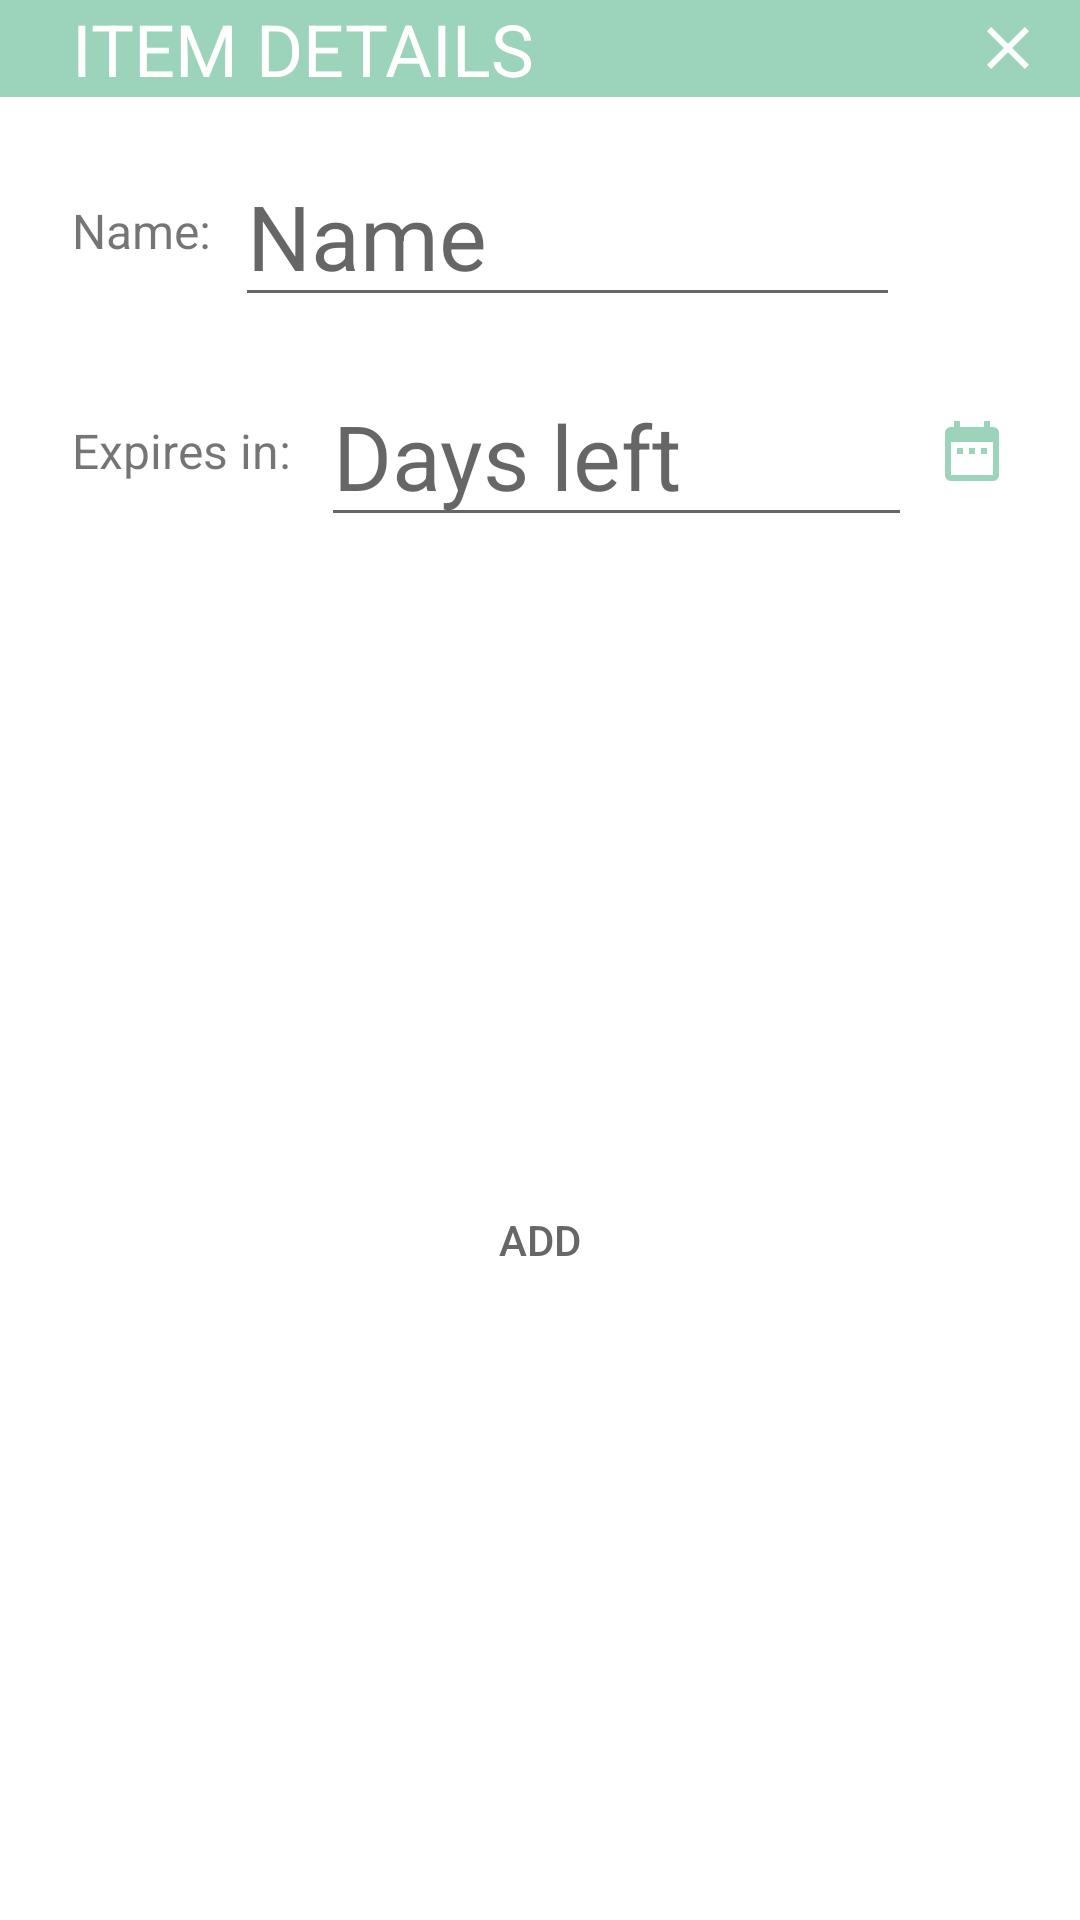

Named icons in this screenshot (1080*1920) and their bounding boxes, (x1, y1, x2, y2):
close: (987, 27, 1029, 69)
date range: (945, 421, 999, 481)
